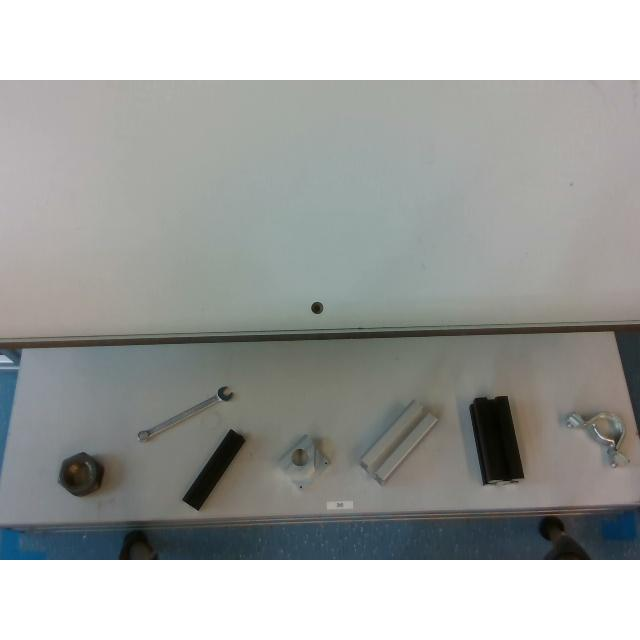F20_20_B: (182, 428, 244, 508)
Housing: (562, 410, 626, 466)
M30: (58, 452, 102, 496)
S40_40_B: (469, 396, 523, 484)
S40_40_G: (360, 400, 436, 484)
